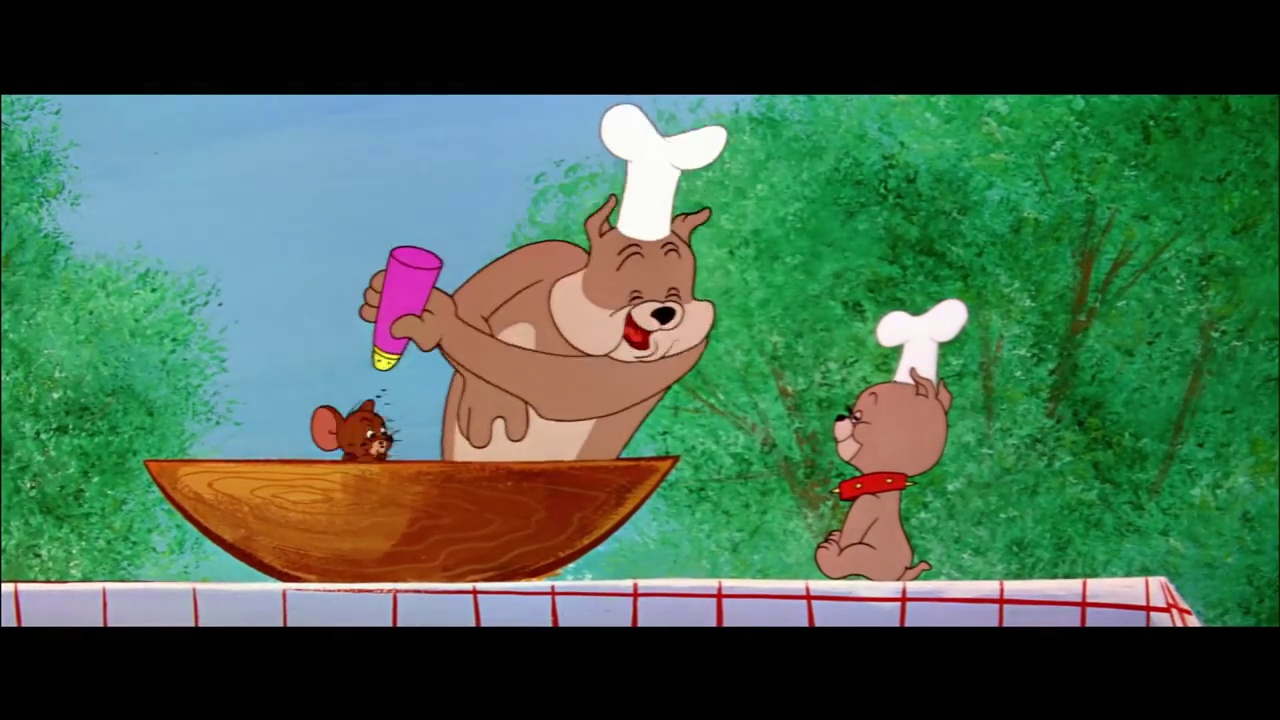spike: (544, 188, 721, 367)
